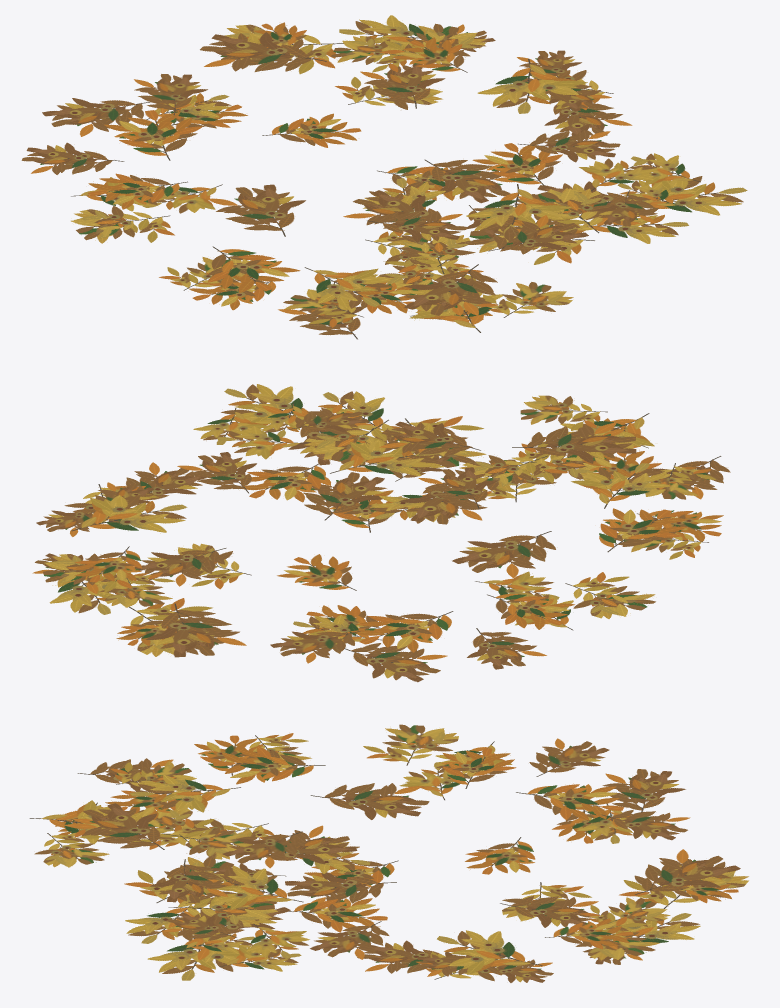
File: chataignier_jeune_a.fbx
The picture shows the model from 3 angles, top to bottom: view 1: azimuth 30°, elevation 25°; view 2: azimuth 150°, elevation 25°; view 3: azimuth 270°, elevation 25°; orthographic projection. The views are drawn at different scales.
Visible parts, largest first — view 1: chataignier_jeune_a_feuilles_sol; view 2: chataignier_jeune_a_feuilles_sol; view 3: chataignier_jeune_a_feuilles_sol.
Boxes of the visible parts, <box> form: chataignier_jeune_a_feuilles_sol: <box>21,15,747,339</box>; chataignier_jeune_a_feuilles_sol: <box>32,384,730,682</box>; chataignier_jeune_a_feuilles_sol: <box>29,724,748,982</box>.
Size of what is drawn, in the model's own units: 2.37 by 0.00573 by 2.79.
